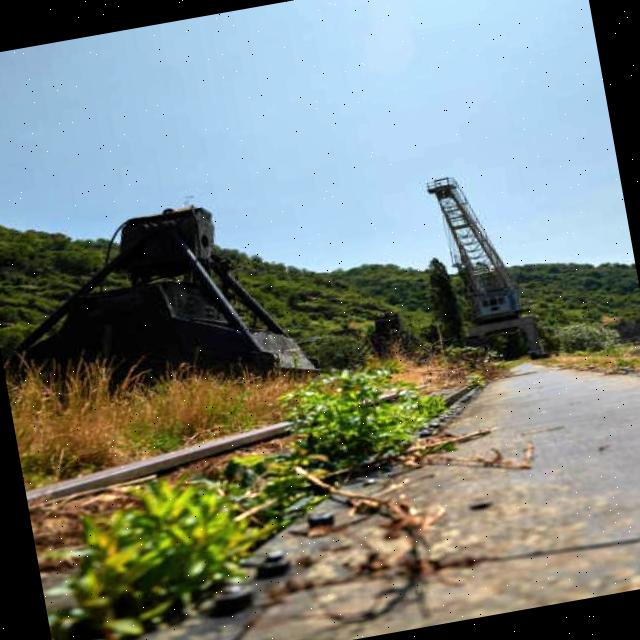Broken Pole: (23, 372, 422, 516)
